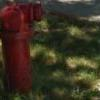Hydrant: (2, 3, 52, 100)
